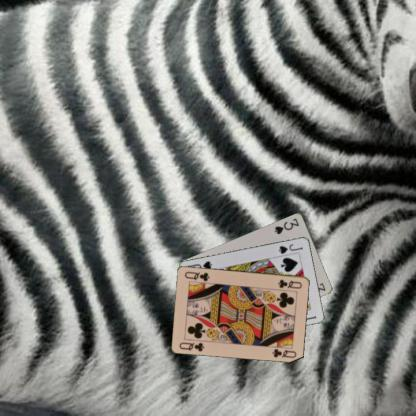3s: (272, 216, 301, 235)
Js: (276, 241, 304, 255)
Qc: (176, 340, 206, 352), (276, 277, 303, 289)
